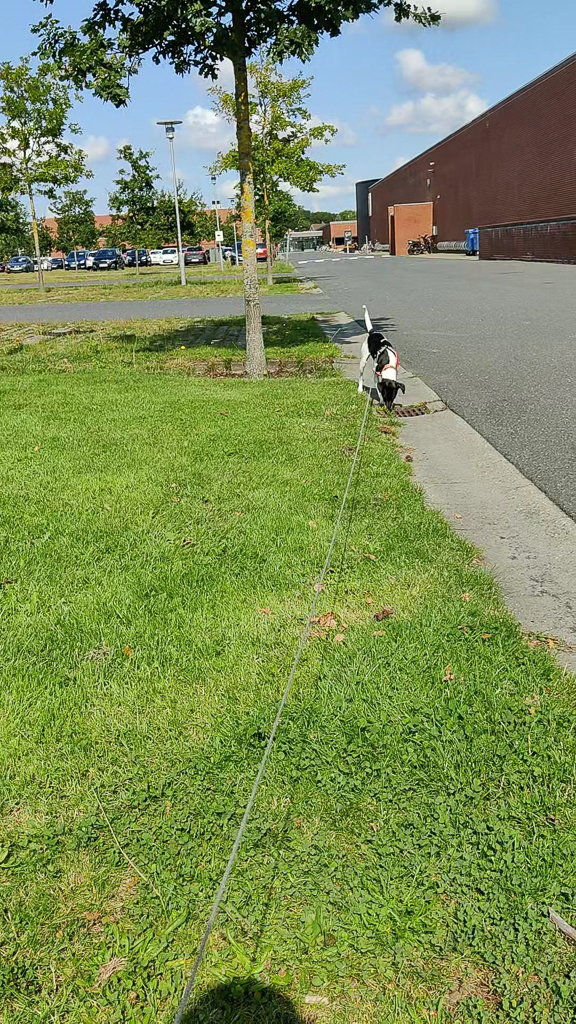Dog: (342, 297, 423, 417)
